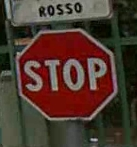stop: (13, 26, 120, 121)
